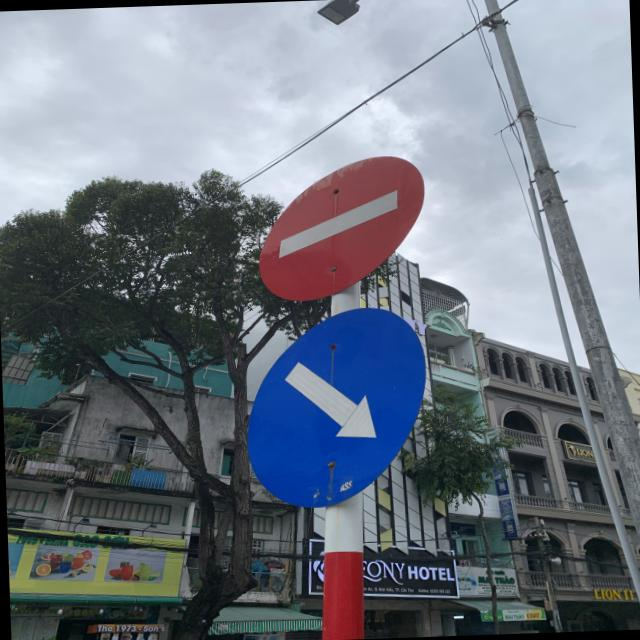Cam_Di_Nguoc_Chieu: (255, 150, 424, 299)
Chi_Huong_Di_Phai: (234, 304, 436, 513)
